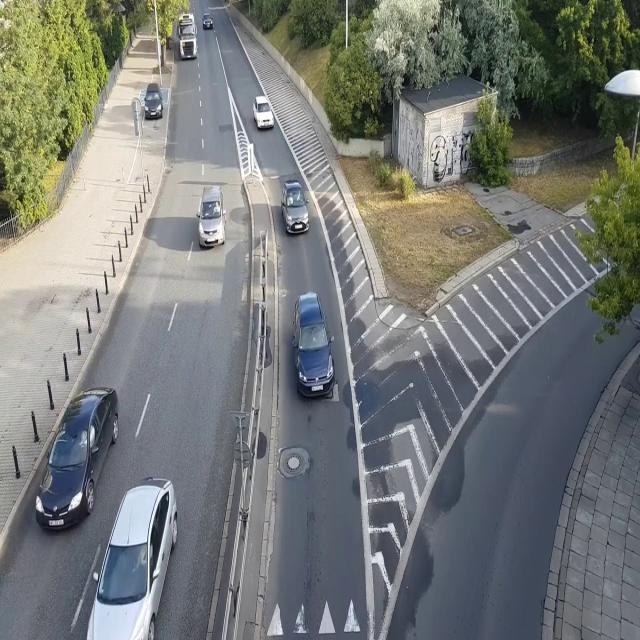car: (84, 475, 178, 640), (33, 384, 119, 532), (291, 290, 334, 401), (196, 185, 227, 248), (281, 179, 309, 236), (142, 82, 165, 120), (254, 95, 274, 131), (202, 12, 213, 30)
truck: (177, 13, 197, 60)
